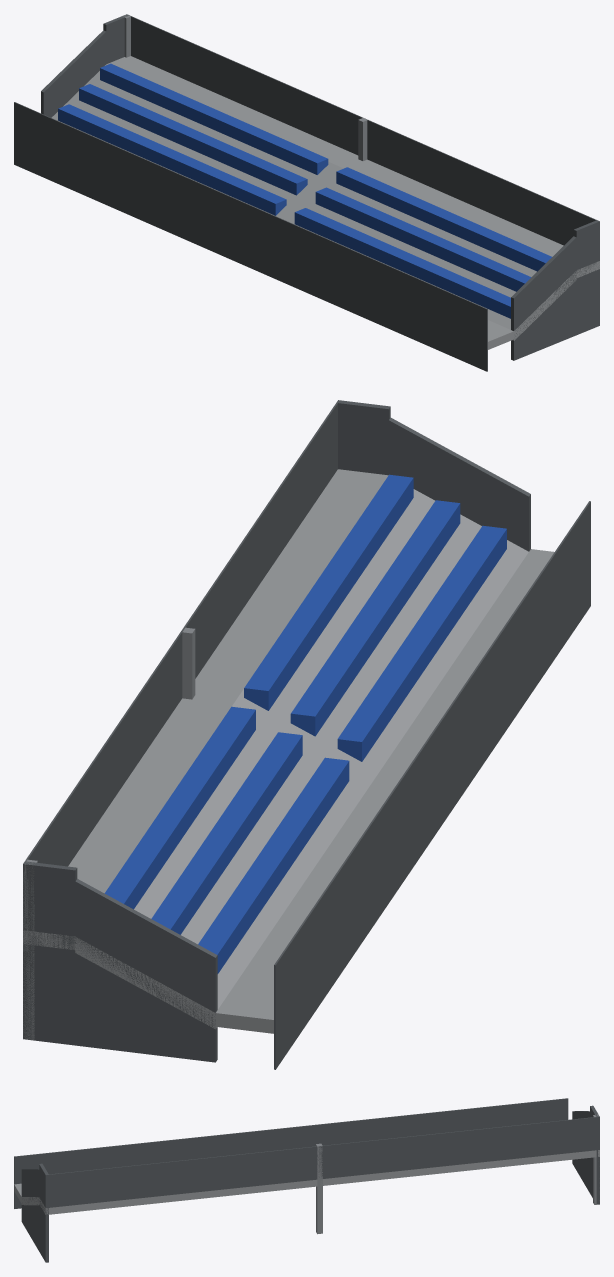
File: mza_stand_trib_p03.glb
3 views of the same model, one above another, from view 1: azimuth 30°, elevation 25°; view 2: azimuth 150°, elevation 25°; view 3: azimuth 270°, elevation 25° (orthographic). The views are drawn at different scales.
Visible parts, largest first — view 1: monza-trib-p03; view 2: monza-trib-p03; view 3: monza-trib-p03.
Boxes of the visible parts, x1,y1,x2,y2 form: monza-trib-p03: (14, 14, 599, 371); monza-trib-p03: (23, 400, 590, 1069); monza-trib-p03: (14, 1098, 599, 1262).
Size of the model in its own units: 8.74 by 3.18 by 19.29.
